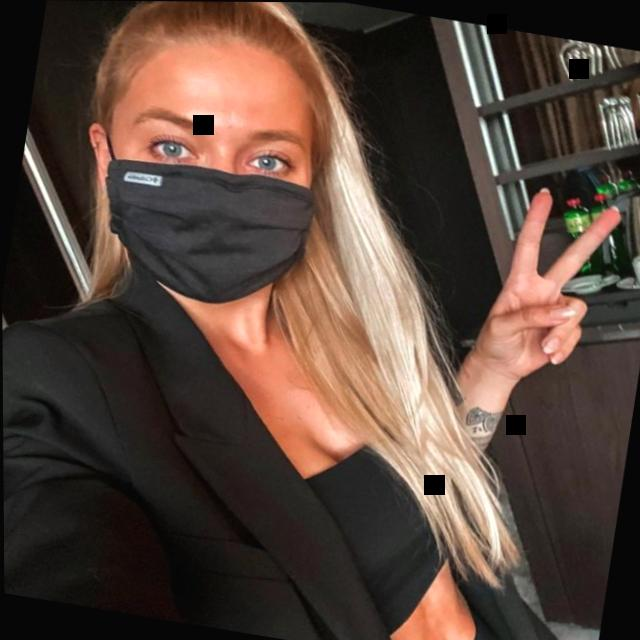Mask: (82, 38, 337, 317)
